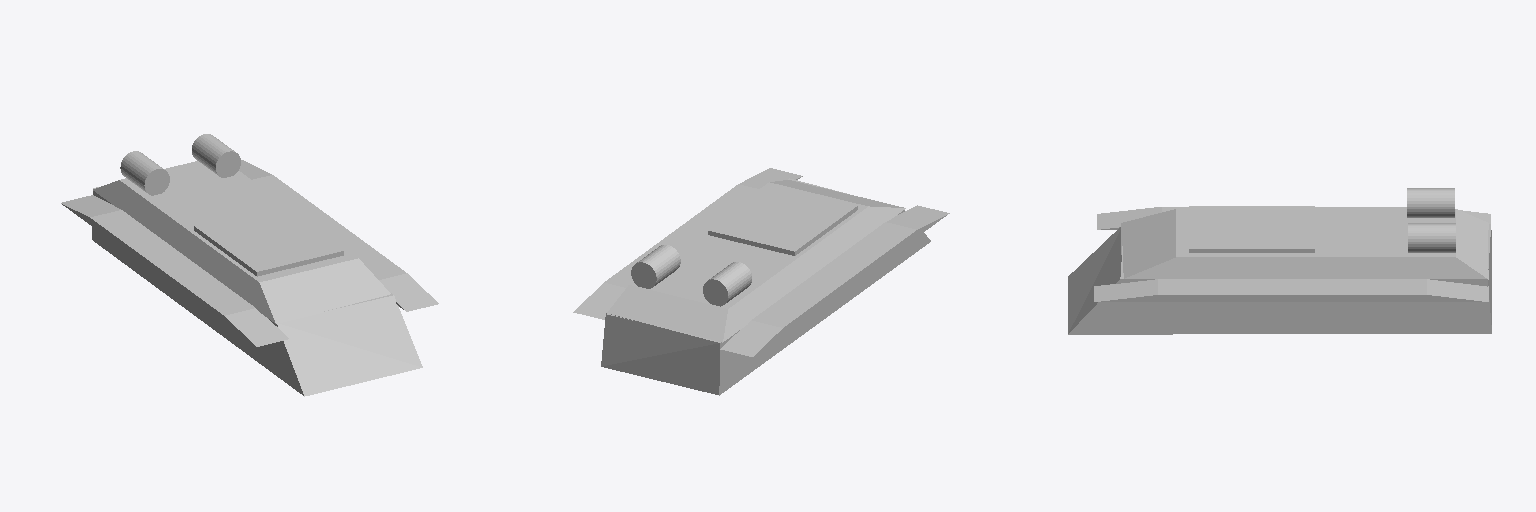
Rendered from kadlubxd.obj.
3 renders of one model, left to right at view 1: azimuth 30°, elevation 25°; view 2: azimuth 150°, elevation 25°; view 3: azimuth 270°, elevation 25°, orthographic.
Parts seen in each view (by area): view 1: Cube.001, Cube, Cube.002, Cylinder.001, Cylinder; view 2: Cube.001, Cube, Cube.002, Cylinder, Cylinder.001; view 3: Cube.001, Cube, Cube.002, Cylinder, Cylinder.001.
Boxes of the visible parts, x1=… form: Cube.001: x1=61, y1=160, x2=438, y2=396; Cube: x1=93, y1=161, x2=390, y2=323; Cube.002: x1=194, y1=205, x2=343, y2=276; Cylinder.001: x1=120, y1=151, x2=169, y2=195; Cylinder: x1=192, y1=134, x2=240, y2=177; Cube.001: x1=573, y1=168, x2=949, y2=395; Cube: x1=607, y1=180, x2=905, y2=342; Cube.002: x1=708, y1=184, x2=857, y2=255; Cylinder: x1=631, y1=245, x2=680, y2=288; Cylinder.001: x1=703, y1=262, x2=751, y2=306; Cube.001: x1=1068, y1=207, x2=1491, y2=334; Cube: x1=1121, y1=209, x2=1488, y2=279; Cube.002: x1=1189, y1=206, x2=1314, y2=252; Cylinder: x1=1408, y1=223, x2=1455, y2=252; Cylinder.001: x1=1407, y1=188, x2=1454, y2=217.
Size of the model in its own units: 3.31 by 1.71 by 6.71.